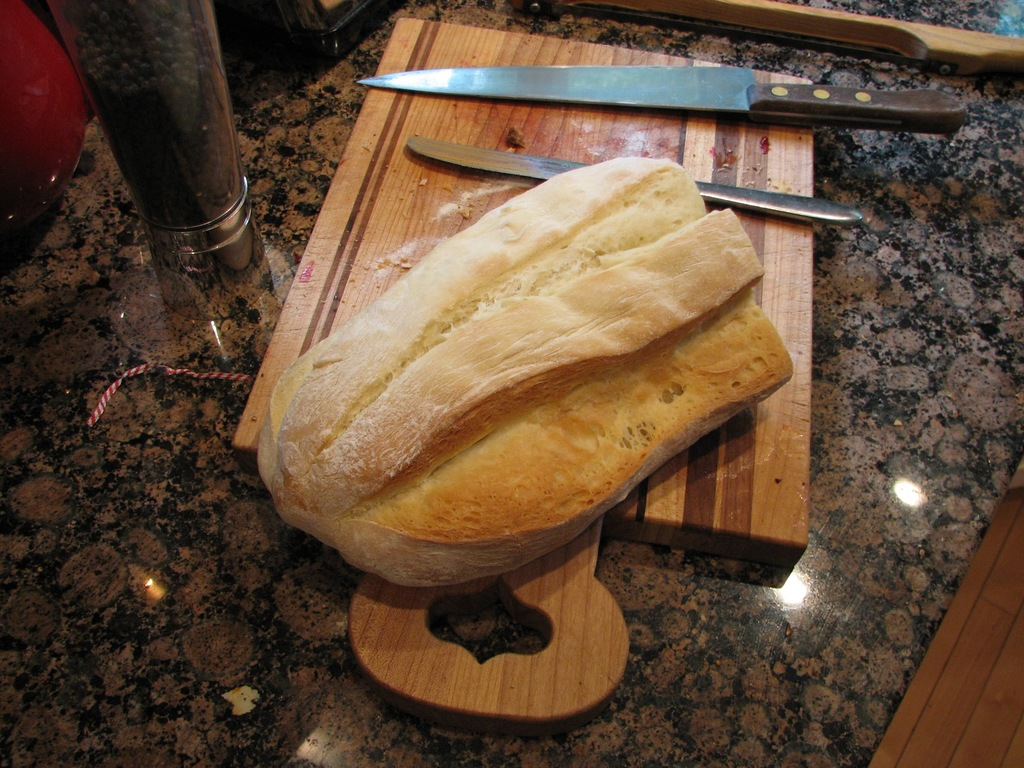kitchen knife: (357, 60, 968, 145)
